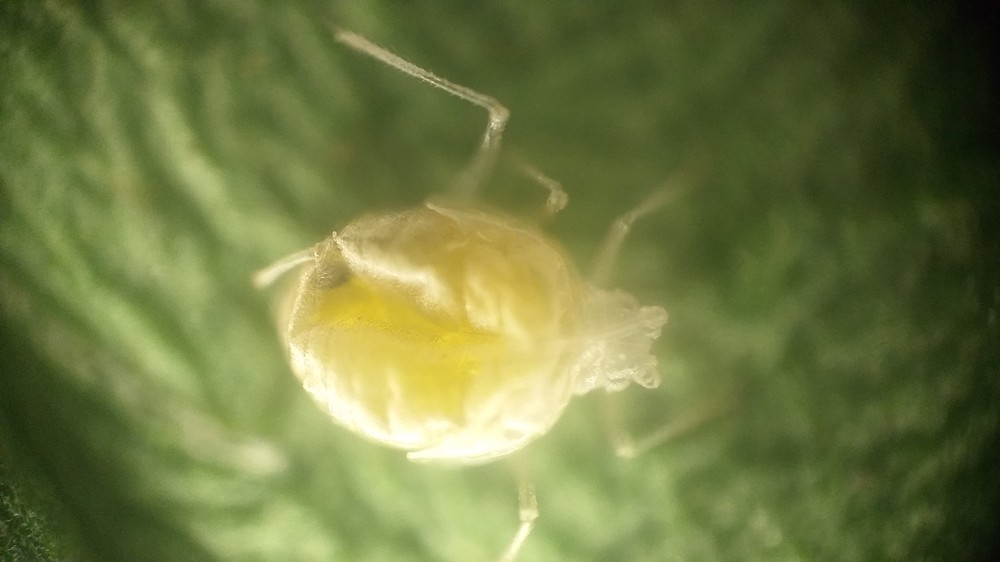Pulgon: (236, 42, 759, 550)
